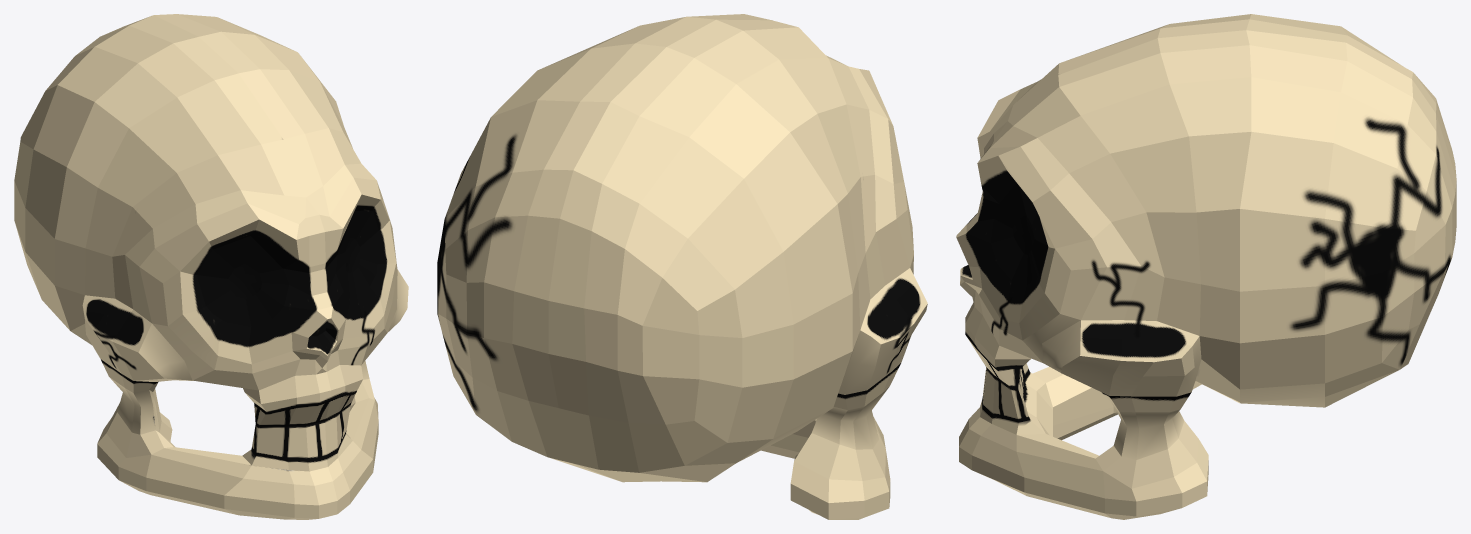
The model's file is RegularSkull_w_Reg_Textures.fbx.
The picture shows the model from 3 angles, left to right: view 1: azimuth 30°, elevation 25°; view 2: azimuth 150°, elevation 25°; view 3: azimuth 270°, elevation 25°; orthographic projection. The views are drawn at different scales.
Visible parts, largest first — view 1: nurbsToPoly5; view 2: nurbsToPoly5; view 3: nurbsToPoly5.
Part boxes in pixels (box(x1,y1,x2,y2)): nurbsToPoly5: box(14, 14, 408, 519); nurbsToPoly5: box(437, 14, 927, 519); nurbsToPoly5: box(956, 14, 1456, 519).
Size of the model in its own units: 31.84 by 41 by 42.39.
1 material, 1 textured.
